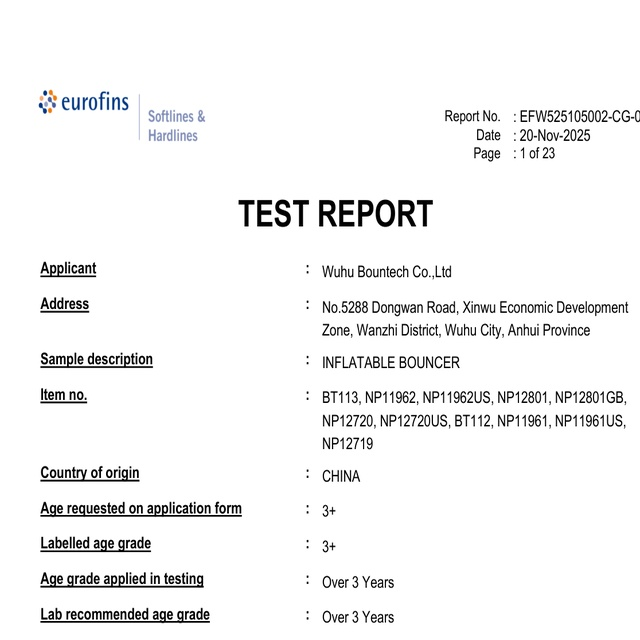eurofins: (34, 86, 133, 120)
